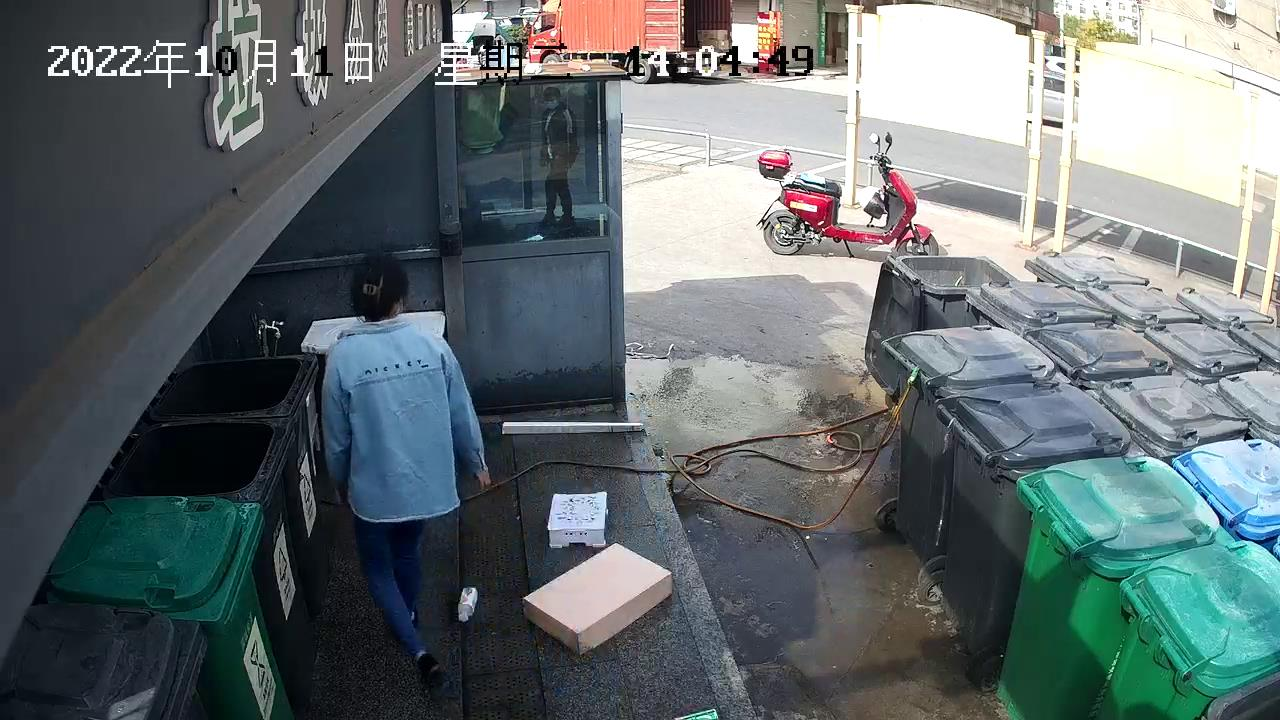suliaozhipin: (544, 485, 611, 551), (454, 581, 479, 625)
worker: (319, 247, 492, 706)
zhizhipin: (518, 541, 676, 657)
